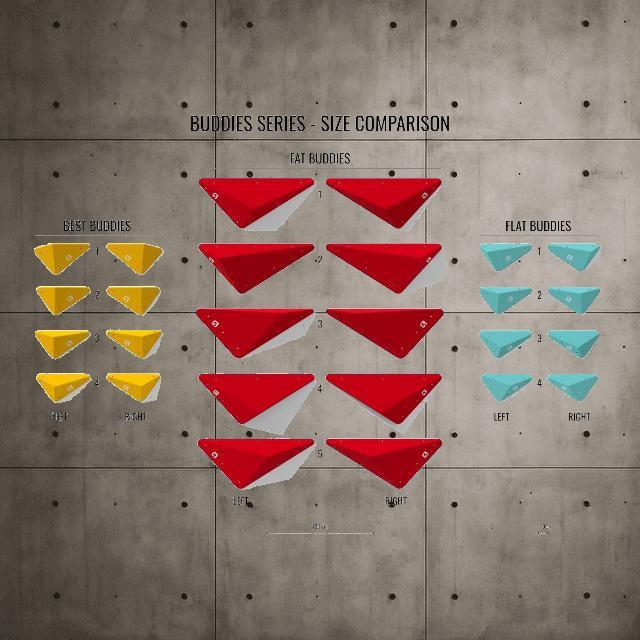Volume: (197, 308, 316, 358), (200, 438, 316, 489), (198, 374, 316, 424), (326, 310, 444, 360), (324, 374, 441, 424), (326, 438, 440, 489), (199, 178, 315, 228), (325, 178, 441, 228), (325, 243, 441, 293), (199, 244, 315, 292), (34, 243, 90, 274), (106, 243, 162, 273), (36, 372, 92, 402), (34, 330, 90, 358), (106, 330, 162, 358), (547, 329, 601, 358), (546, 372, 598, 402), (107, 374, 161, 402), (36, 286, 90, 314), (547, 243, 601, 271), (479, 286, 533, 314), (548, 286, 600, 314), (480, 329, 532, 357), (107, 288, 161, 314), (480, 373, 530, 401), (481, 243, 532, 270)
